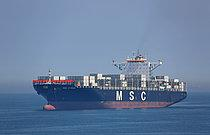Ship: (32, 46, 191, 114)
